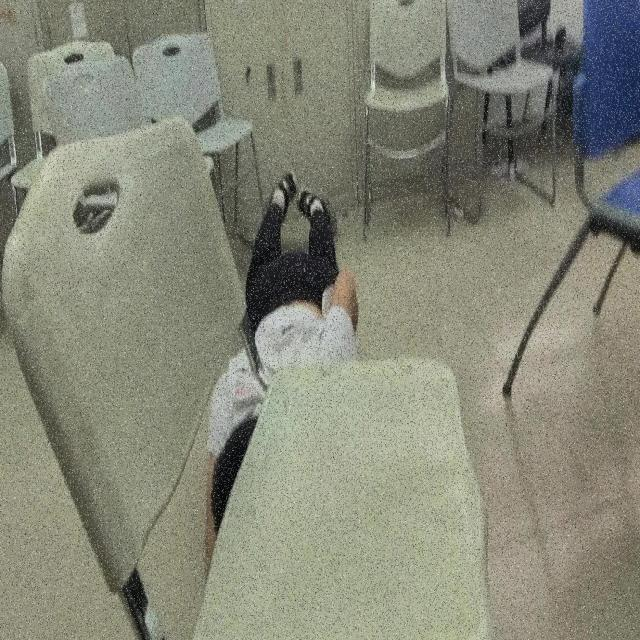fall: (203, 166, 362, 588)
